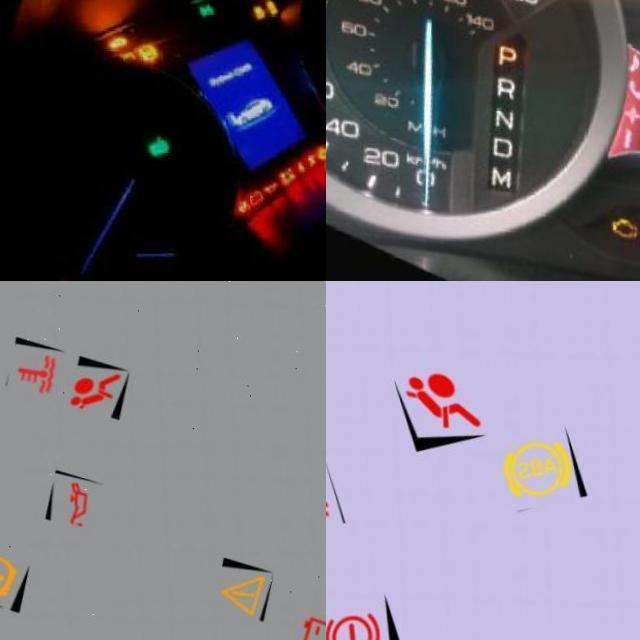Seat Belt: (291, 155, 304, 170)
